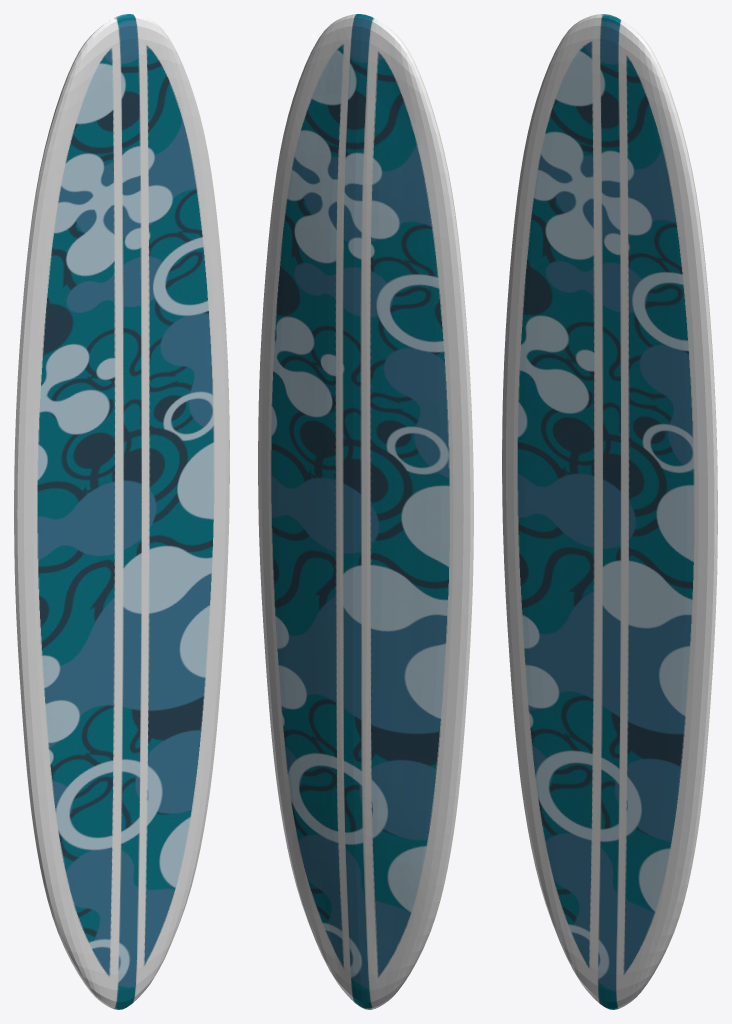
File: surf.fbx
The picture shows the model from 3 angles, left to right: view 1: azimuth 30°, elevation 25°; view 2: azimuth 150°, elevation 25°; view 3: azimuth 330°, elevation 25°; orthographic projection.
Parts seen in each view (by area): view 1: FG Surf Board 1.Shape; view 2: FG Surf Board 1.Shape; view 3: FG Surf Board 1.Shape.
Boxes of the visible parts, left/top/right/bottom form: FG Surf Board 1.Shape: left=14, top=14, right=229, bottom=1009; FG Surf Board 1.Shape: left=258, top=14, right=473, bottom=1009; FG Surf Board 1.Shape: left=502, top=14, right=717, bottom=1009.
Size of the model in its own units: 60.44 by 266 by 8.33.
1 material, 1 textured.
